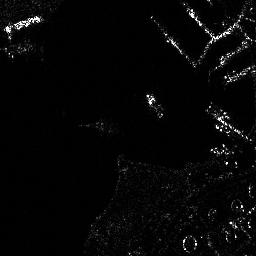ship: (4, 15, 44, 33), (145, 92, 164, 119)
